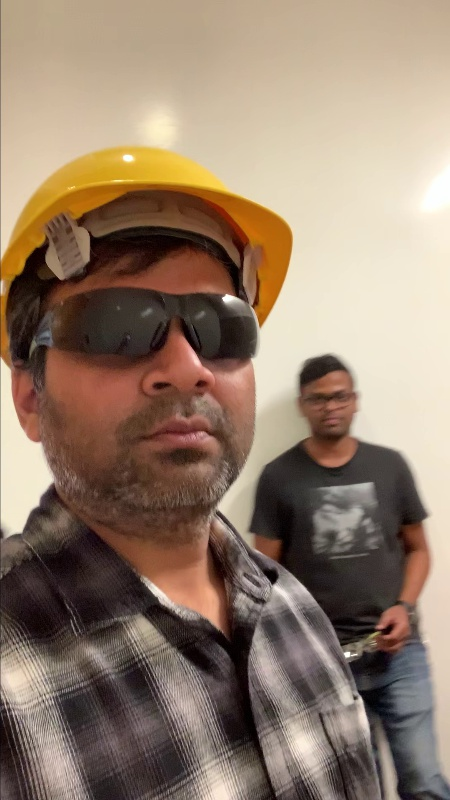glasses: (49, 282, 262, 371)
helmet: (2, 141, 291, 313)
